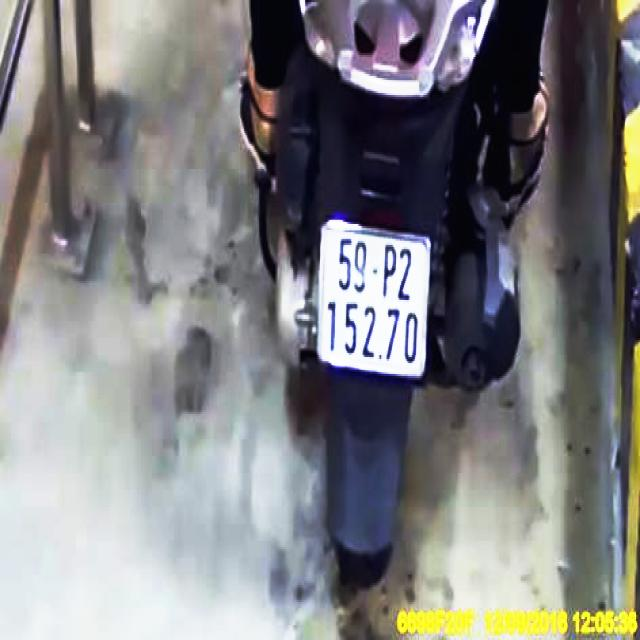license_plate: (322, 222, 429, 375)
